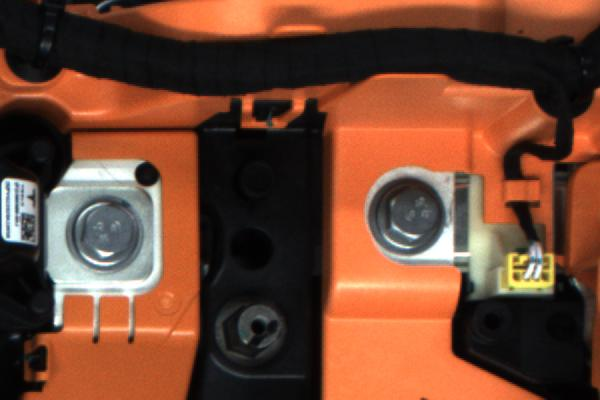nut_b: (359, 167, 448, 268), (55, 184, 147, 276)
